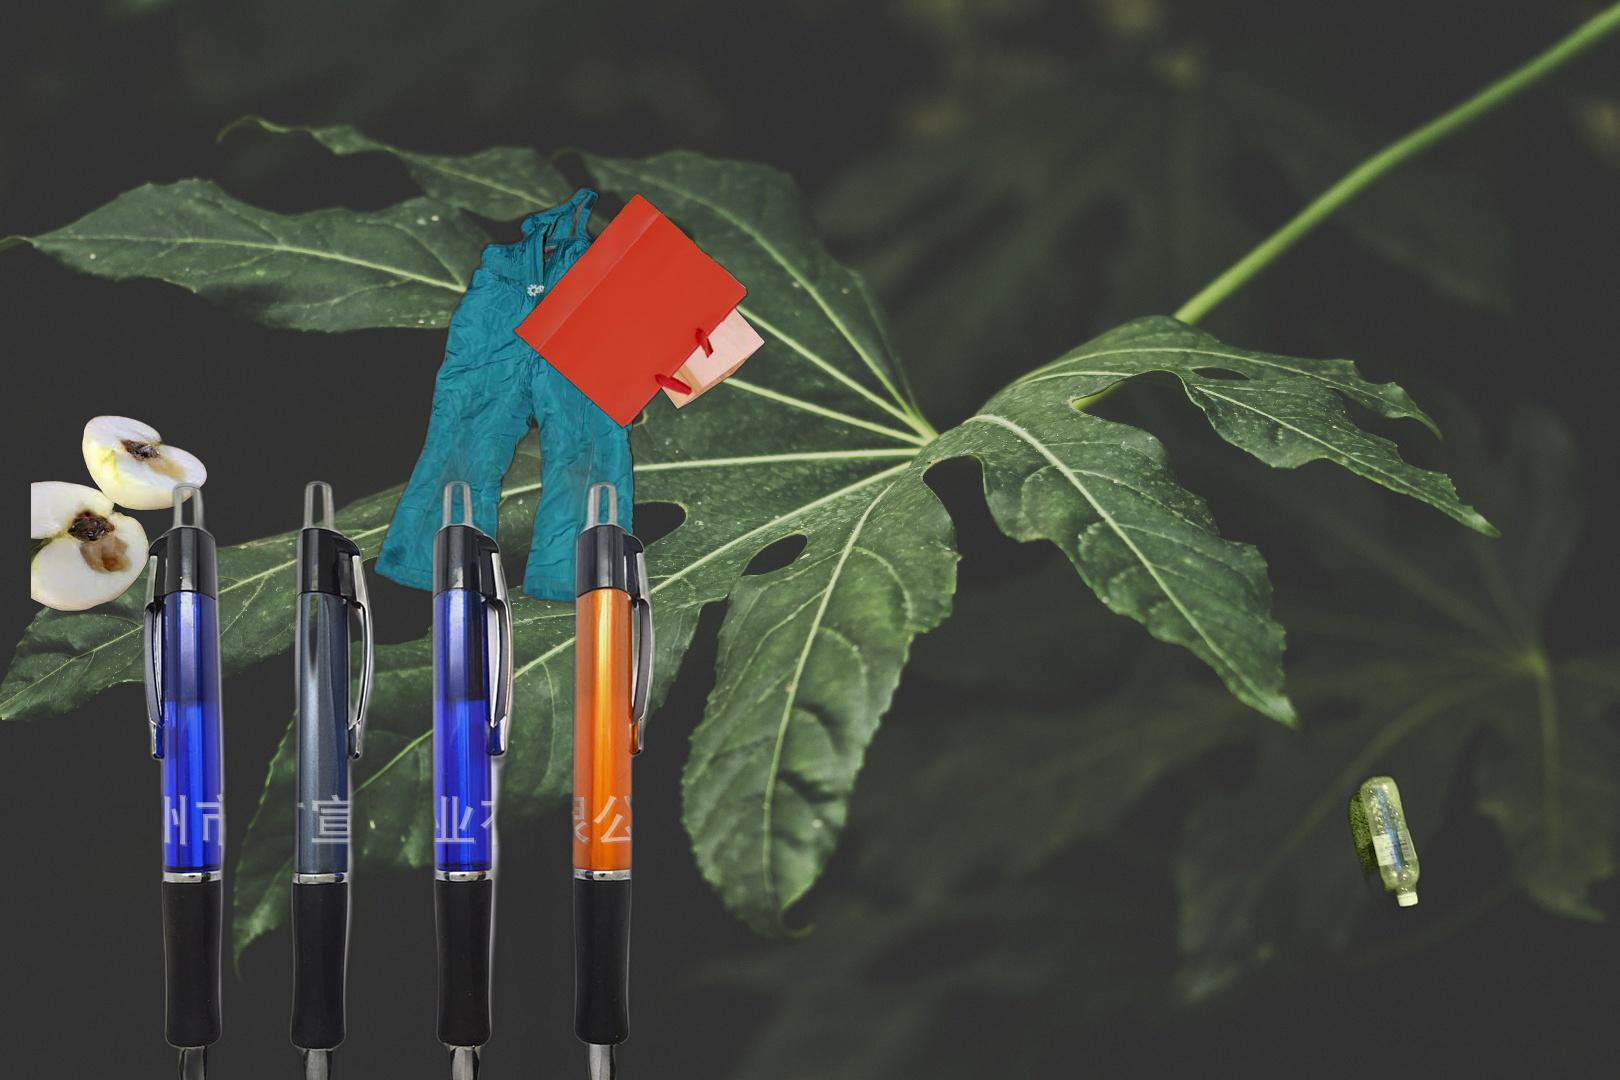biological: (31, 412, 210, 614)
clothes: (371, 182, 640, 610)
paper-bag: (510, 190, 768, 432)
penholder: (84, 474, 768, 1080)
plastic-bottles: (1344, 769, 1425, 921)
